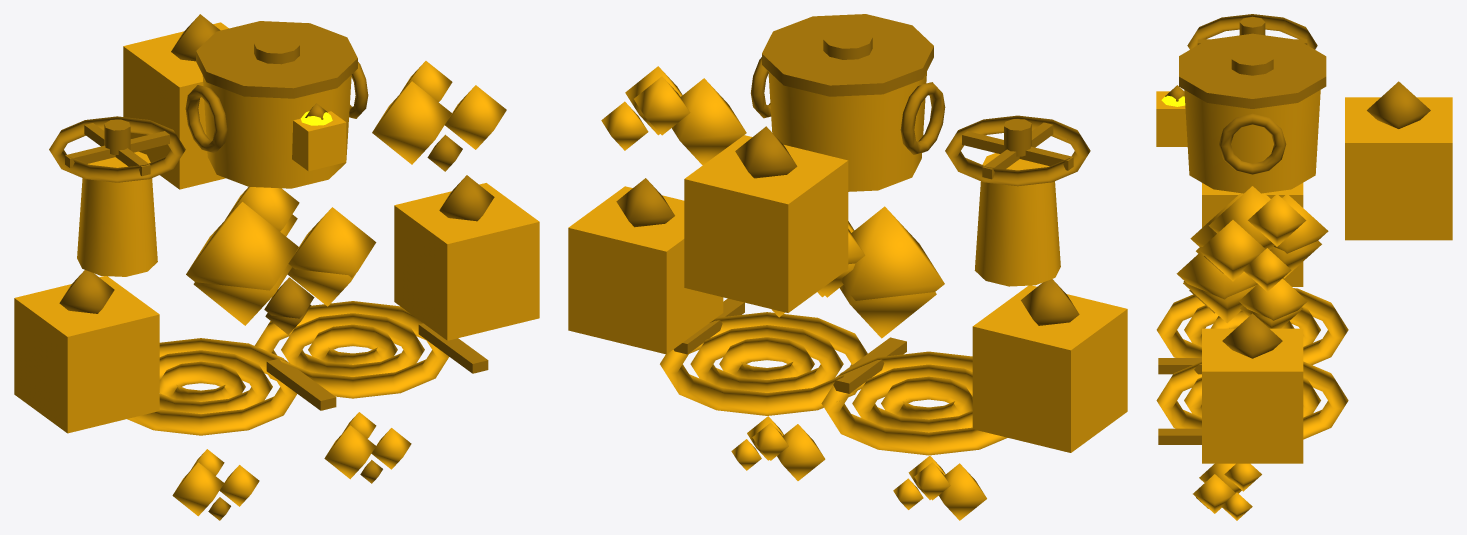
The model's file is golem_028.glb.
3 views of the same model, side by side, from view 1: azimuth 30°, elevation 25°; view 2: azimuth 150°, elevation 25°; view 3: azimuth 270°, elevation 25° (orthographic). The views are drawn at different scales.
Parts seen in each view (by area): view 1: Body, Detail; view 2: Body, Detail; view 3: Body, Detail.
Part boxes in pixels (x1=…): Body: x1=14, y1=22, x2=539, y2=516; Detail: x1=49, y1=14, x2=494, y2=520; Body: x1=568, y1=66, x2=1127, y2=520; Detail: x1=616, y1=14, x2=1090, y2=393; Body: x1=1156, y1=90, x2=1452, y2=520; Detail: x1=1158, y1=14, x2=1430, y2=508.
Size of the model in its own units: 1.23 by 1.1 by 0.7015.
